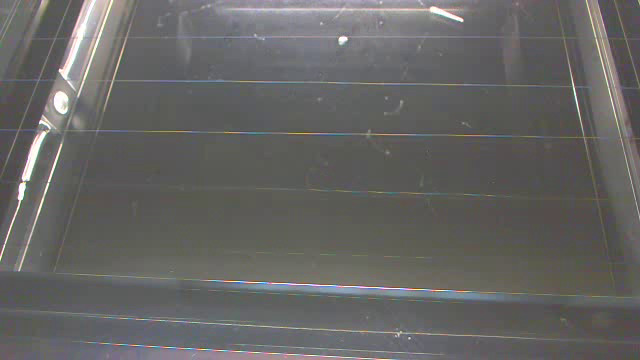alpha: (427, 5, 465, 23), (334, 34, 350, 46)
